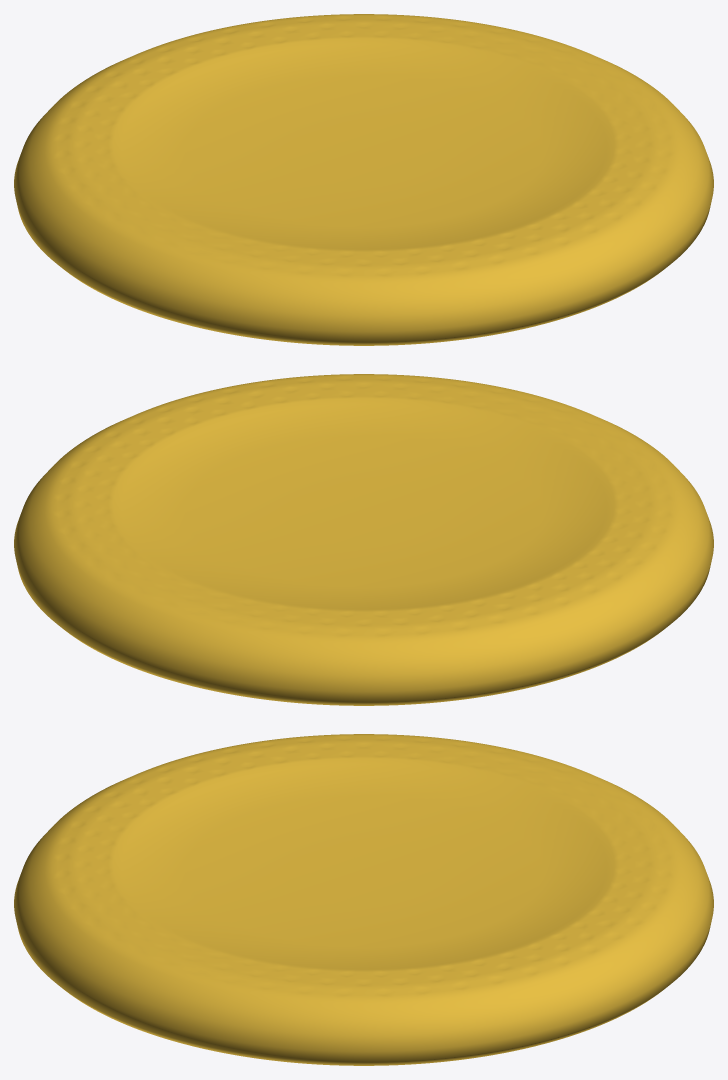
The model's file is A-NEW-20261026-FLYING-DISC-001_LOD0_R1.fbx.
The picture shows the model from 3 angles, top to bottom: view 1: azimuth 30°, elevation 25°; view 2: azimuth 150°, elevation 25°; view 3: azimuth 270°, elevation 25°; orthographic projection.
Parts seen in each view (by area): view 1: hollow flying disc; view 2: hollow flying disc; view 3: hollow flying disc.
Part boxes in pixels (x1,y1,x2,y2): hollow flying disc: (14,14,713,345); hollow flying disc: (14,374,713,705); hollow flying disc: (14,734,713,1065).
Size of the model in its own units: 27.4 by 2.5 by 27.4.
